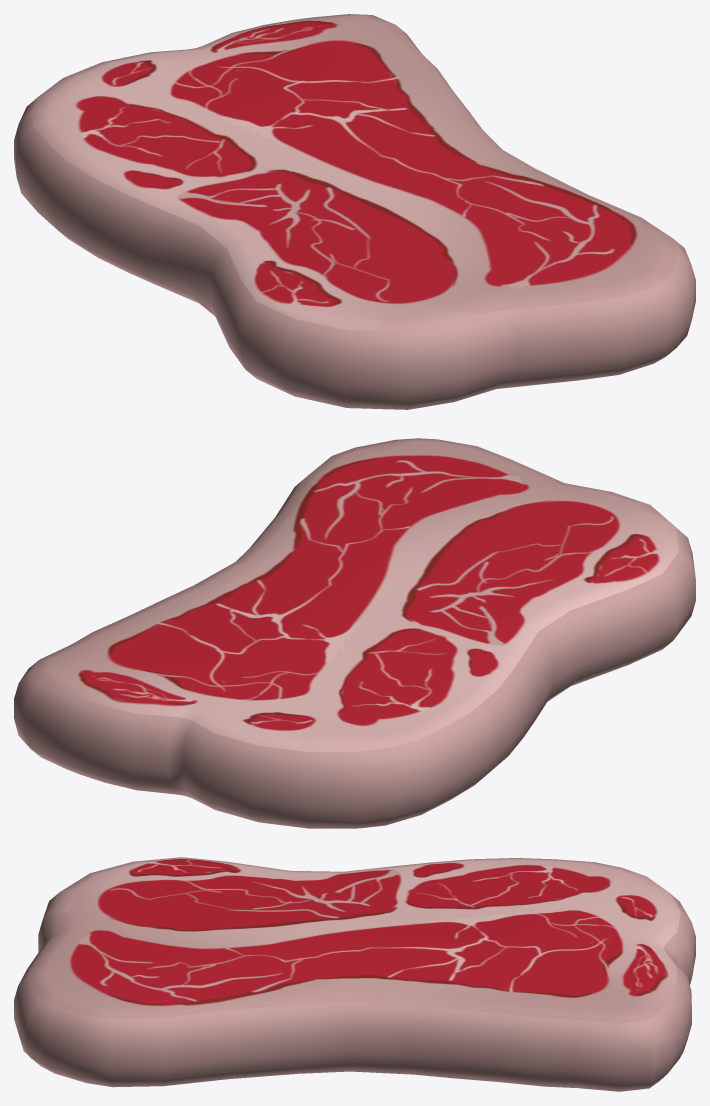
The model's file is Beef_UV.fbx.
3 views of the same model, one above another, from view 1: azimuth 30°, elevation 25°; view 2: azimuth 150°, elevation 25°; view 3: azimuth 270°, elevation 25° (orthographic). The views are drawn at different scales.
Parts seen in each view (by area): view 1: Beef; view 2: Beef; view 3: Beef.
Boxes of the visible parts, bbox=[...] form: Beef: bbox=[14, 14, 695, 409]; Beef: bbox=[14, 438, 695, 828]; Beef: bbox=[14, 857, 695, 1091].
Size of the model in its own units: 5.2 by 1.22 by 8.34.
